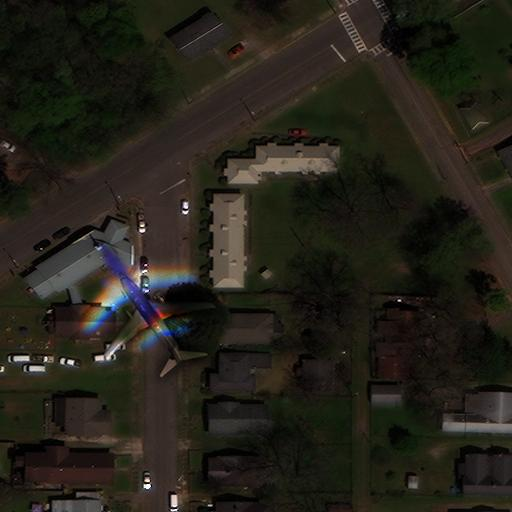Medium Civil Transport: (104, 271, 208, 363)
